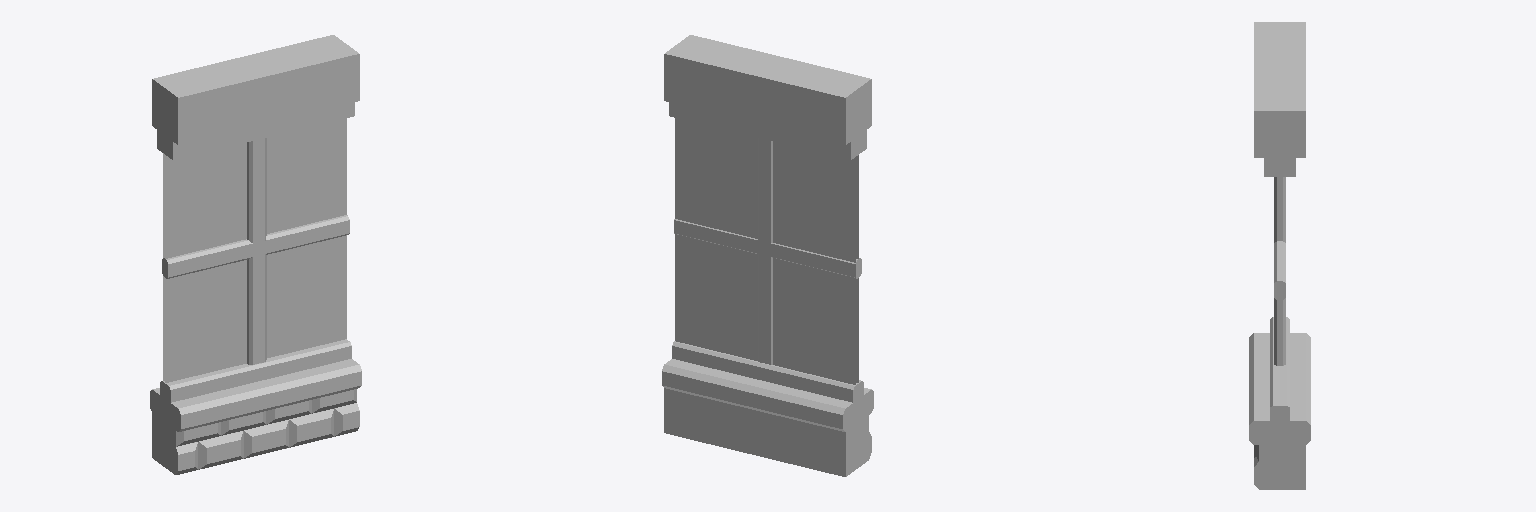
File: wall_tiles_kitchen_window_full_center.obj
The picture shows the model from 3 angles: view 1: azimuth 30°, elevation 25°; view 2: azimuth 150°, elevation 25°; view 3: azimuth 270°, elevation 25°; orthographic projection.
Parts seen in each view (by area): view 1: wall_tiles_kitchen_window_full_center; view 2: wall_tiles_kitchen_window_full_center; view 3: wall_tiles_kitchen_window_full_center.
Part boxes in pixels (left/top/right/bottom): wall_tiles_kitchen_window_full_center: left=150, top=35, right=361, bottom=474; wall_tiles_kitchen_window_full_center: left=662, top=35, right=873, bottom=476; wall_tiles_kitchen_window_full_center: left=1249, top=22, right=1310, bottom=489.
Bounding box in the file's own units: 2 × 4 × 0.6.